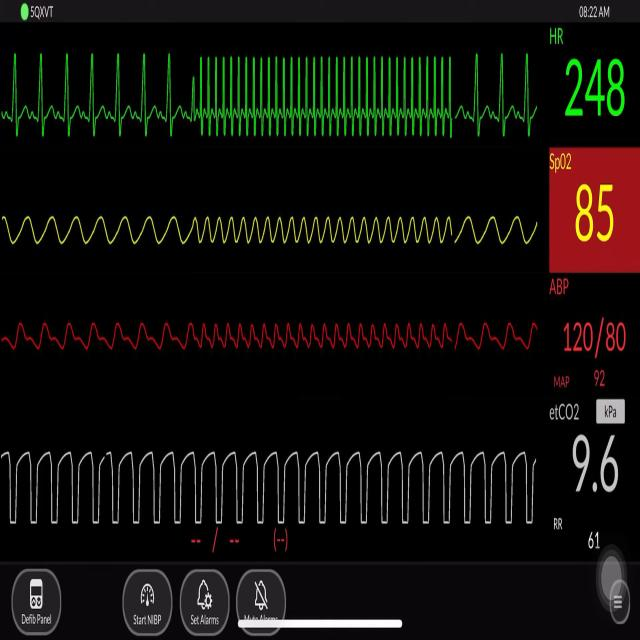danger: (195, 41, 455, 155)
safe: (4, 42, 172, 153), (470, 49, 537, 146)
